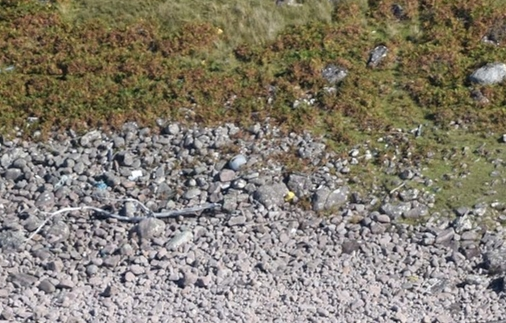scattered_barrel: (87, 163, 149, 197)
white_in_green: (212, 136, 267, 185), (266, 175, 314, 216)
